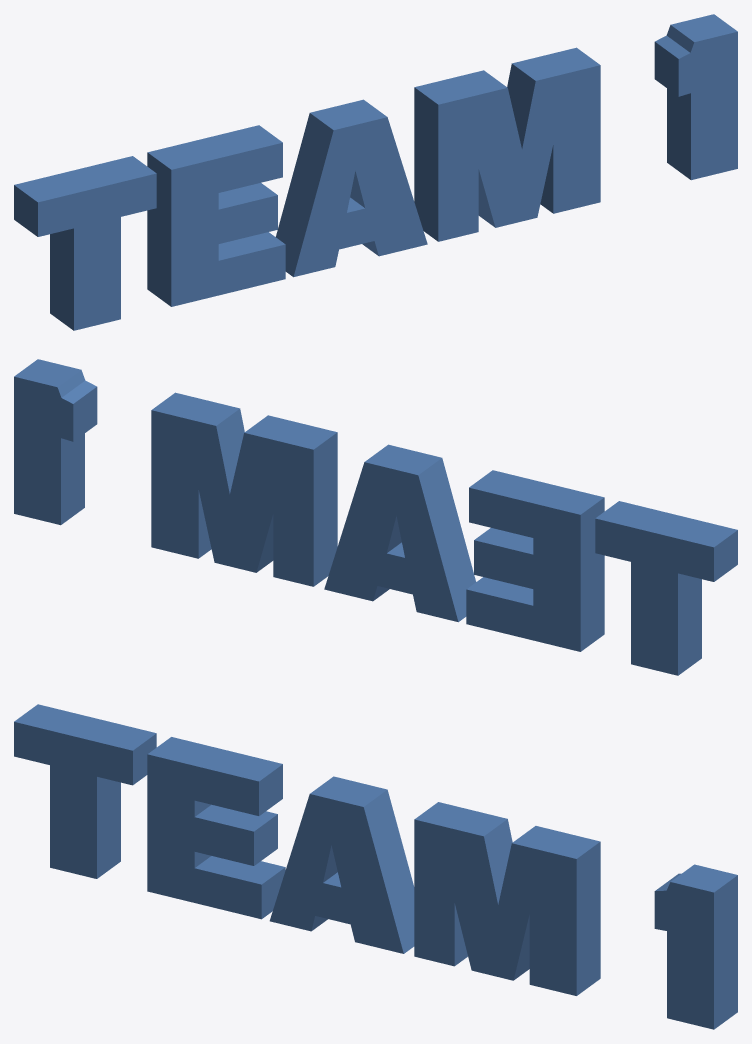
File: Team1.fbx
3 views of the same model, one above another, from view 1: azimuth 30°, elevation 25°; view 2: azimuth 150°, elevation 25°; view 3: azimuth 330°, elevation 25° (orthographic).
Visible parts, largest first — view 1: Team1; view 2: Team1; view 3: Team1.
Boxes of the visible parts, x1,y1,x2,y2 form: Team1: (14, 14, 737, 330); Team1: (14, 359, 737, 675); Team1: (14, 704, 737, 1029).
Bounding box in the file's own units: 201 × 37.6 × 11.89.
